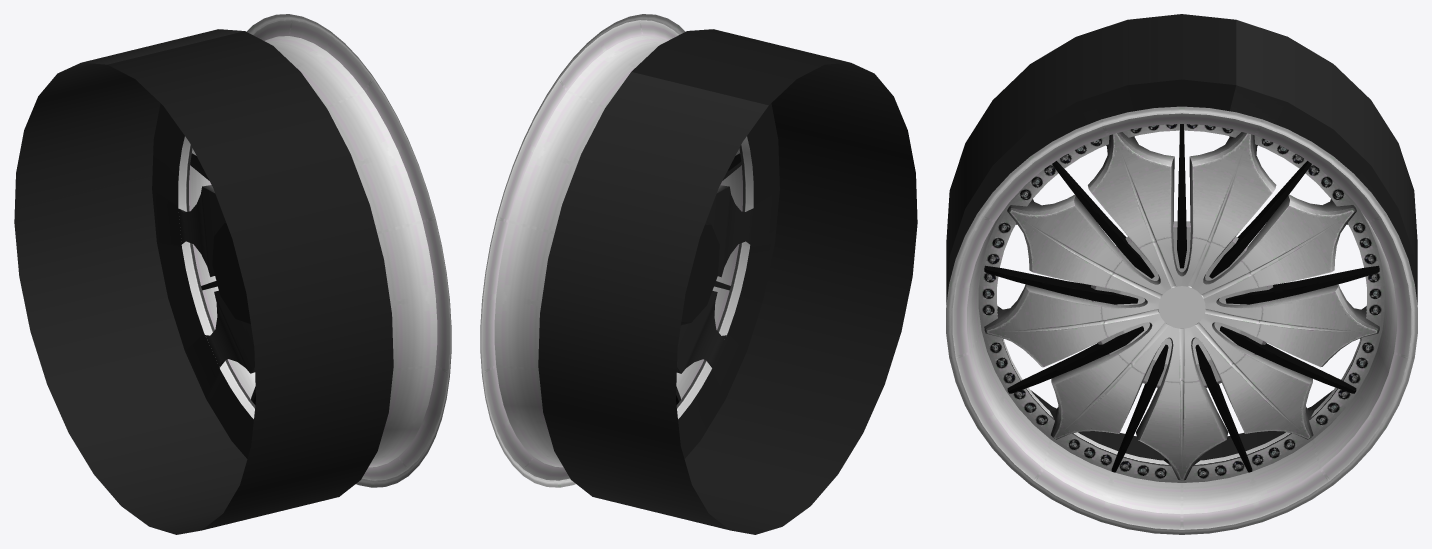
Rendered from wheel23.fbx.
3 views of the same model, side by side, from view 1: azimuth 30°, elevation 25°; view 2: azimuth 150°, elevation 25°; view 3: azimuth 270°, elevation 25° (orthographic). The views are drawn at different scales.
Visible parts, largest first — view 1: dub_presidential_wheel_wheel_inner_rim_, wheel_rim, dub_presidential_wheel_wheel_chrome_rim_; view 2: dub_presidential_wheel_wheel_inner_rim_, wheel_rim, dub_presidential_wheel_wheel_chrome_rim_; view 3: dub_presidential_wheel_wheel_chrome_rim_, wheel_rim, dub_presidential_wheel_wheel_inner_rim_, dub_presidential_wheel_wheel_rim_.
Boxes of the visible parts, x1,y1,x2,y2 form: dub_presidential_wheel_wheel_inner_rim_: (14, 29, 393, 534); wheel_rim: (178, 14, 451, 487); dub_presidential_wheel_wheel_chrome_rim_: (179, 185, 451, 480); dub_presidential_wheel_wheel_inner_rim_: (538, 29, 917, 534); wheel_rim: (480, 14, 753, 487); dub_presidential_wheel_wheel_chrome_rim_: (480, 152, 753, 481); dub_presidential_wheel_wheel_chrome_rim_: (946, 124, 1417, 529); wheel_rim: (946, 106, 1417, 534); dub_presidential_wheel_wheel_inner_rim_: (946, 14, 1417, 460); dub_presidential_wheel_wheel_rim_: (984, 124, 1379, 472).
Bounding box in the file's own units: 0.227 × 0.4831 × 0.4822.
Materials: 1 (1 with a texture image).
